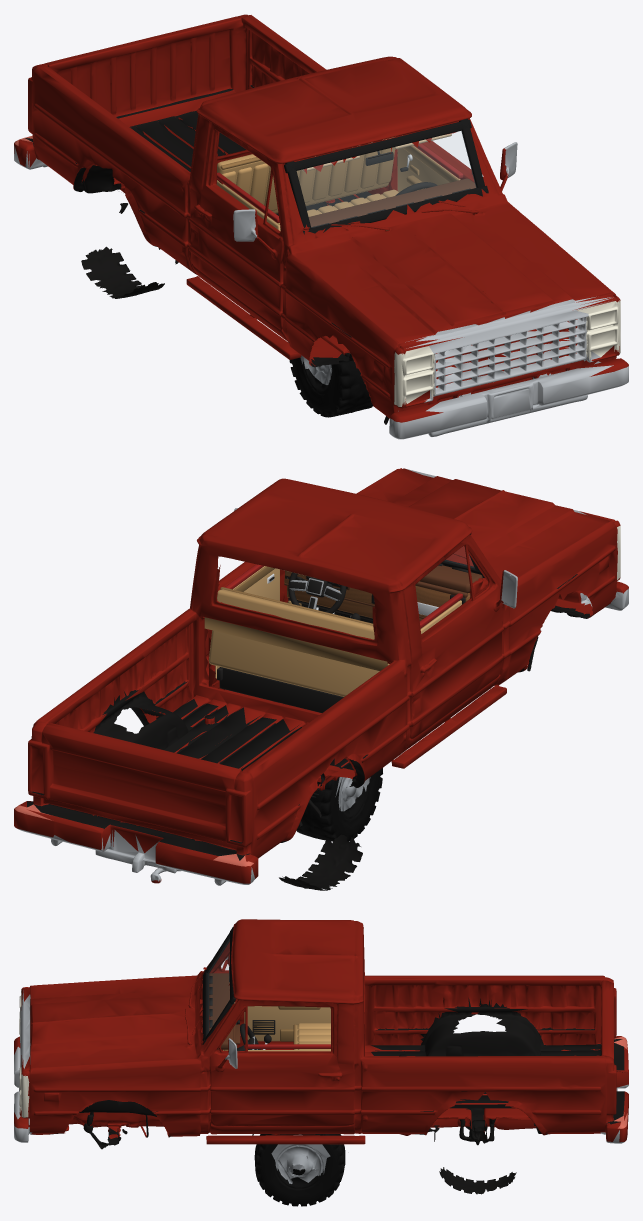
File: truck.glb
3 views of the same model, one above another, from view 1: azimuth 30°, elevation 25°; view 2: azimuth 150°, elevation 25°; view 3: azimuth 270°, elevation 25° (orthographic). The views are drawn at different scales.
Visible parts, largest first — view 1: body, interior, wheel; view 2: body, interior, wheel; view 3: body, interior, wheel.
Boxes of the visible parts, <box> form: body: <box>14,14,628,439</box>; interior: <box>216,118,488,234</box>; wheel: <box>288,342,372,417</box>; body: <box>14,468,628,890</box>; interior: <box>204,533,484,712</box>; wheel: <box>296,768,382,841</box>; body: <box>14,919,628,1194</box>; interior: <box>202,926,330,1051</box>; wheel: <box>252,1134,345,1206</box>.
Bounding box in the file's own units: 2.28 × 2.37 × 5.39.
Materials: 22 (3 with a texture image).
